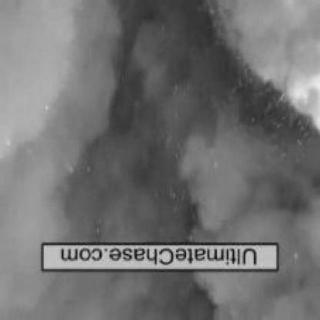Smoke: (9, 13, 299, 305)
